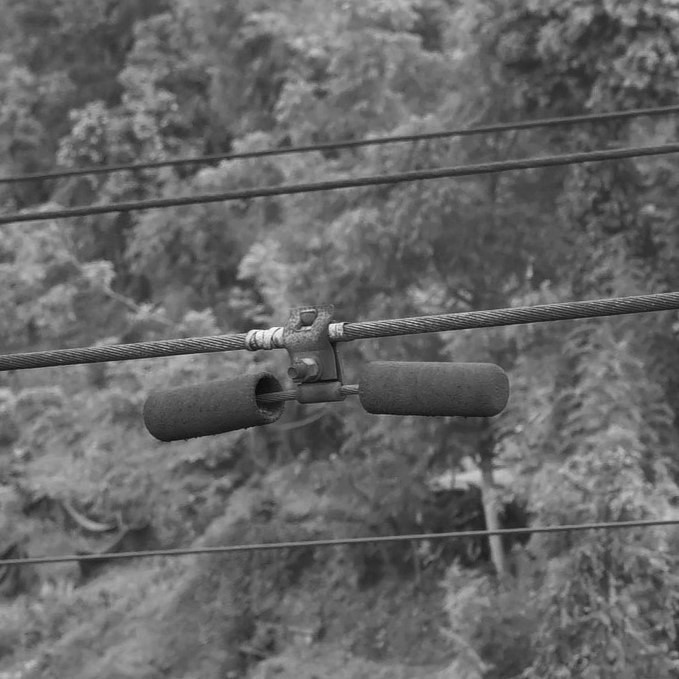Shockproof hammer: (120, 304, 525, 444)
